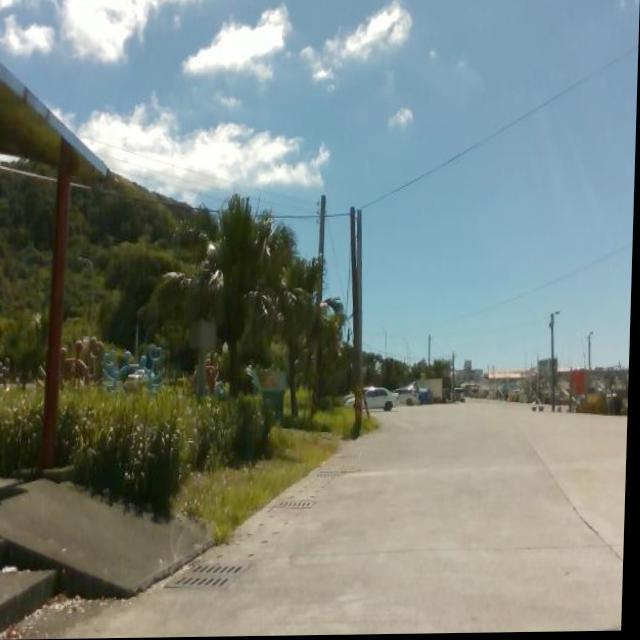pollute: (4, 565, 22, 574)
